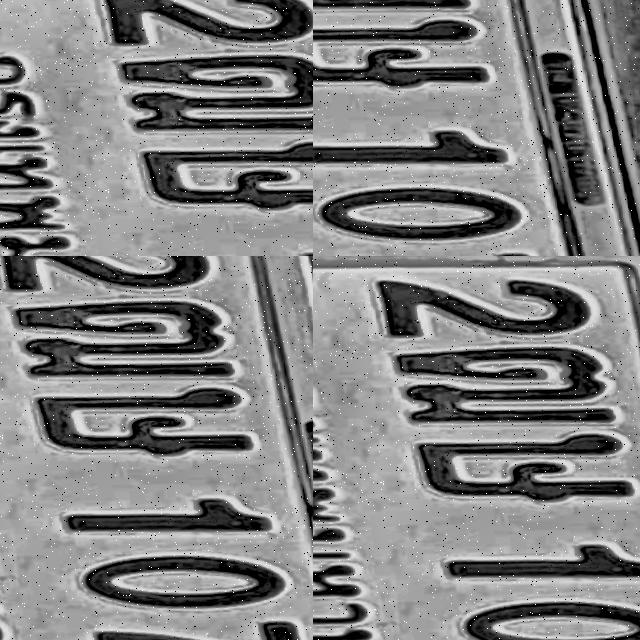license-plate: (313, 256, 640, 640)
